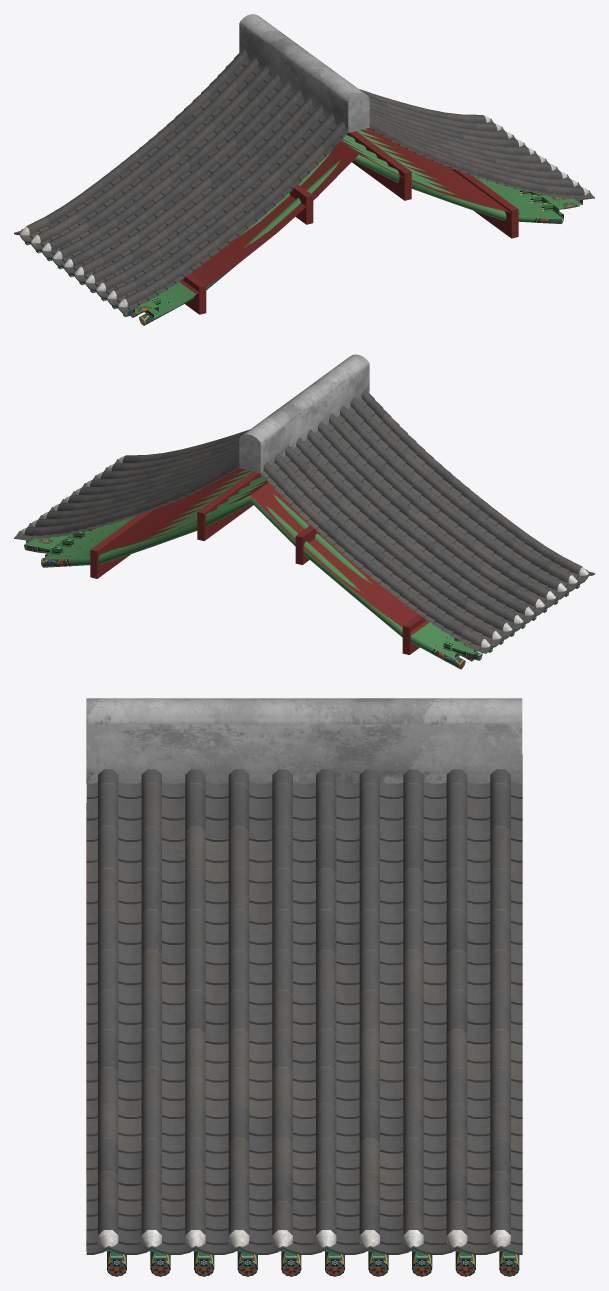
File: SM_Gate_Roof01a.fbx
3 renders of one model, top to bottom at view 1: azimuth 30°, elevation 25°; view 2: azimuth 150°, elevation 25°; view 3: azimuth 270°, elevation 25°, orthographic. The views are drawn at different scales.
Parts seen in each view (by area): view 1: SM_Gate_Roof01a; view 2: SM_Gate_Roof01a; view 3: SM_Gate_Roof01a.
Boxes of the visible parts, x1=… form: SM_Gate_Roof01a: x1=14, y1=14, x2=594, y2=325; SM_Gate_Roof01a: x1=14, y1=354, x2=594, y2=669; SM_Gate_Roof01a: x1=86, y1=698, x2=522, y2=1276.
Bounding box in the file's own units: 750 × 300 × 282.
Materials: 2 (2 with a texture image).
